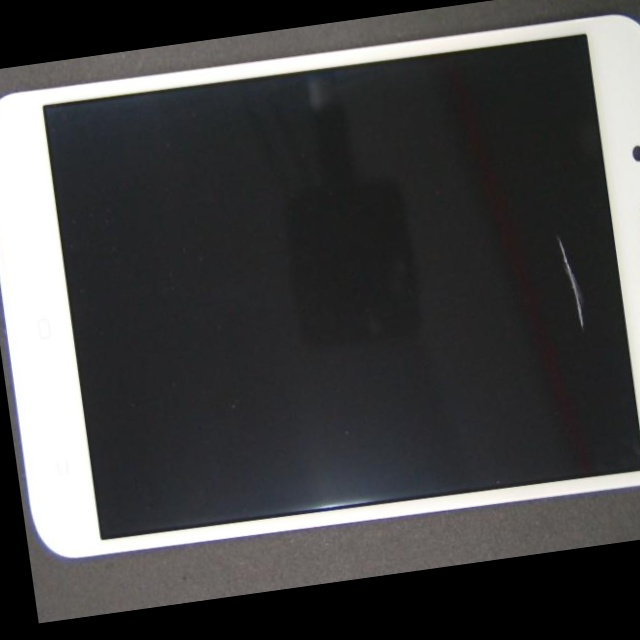scratch: (256, 65, 640, 379)
